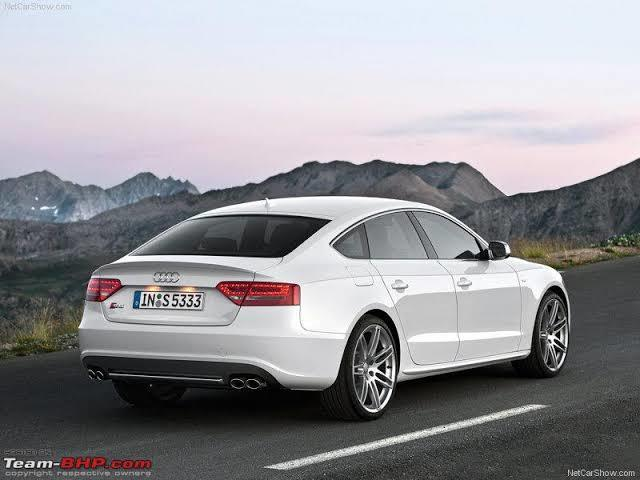audi: (66, 187, 572, 409)
